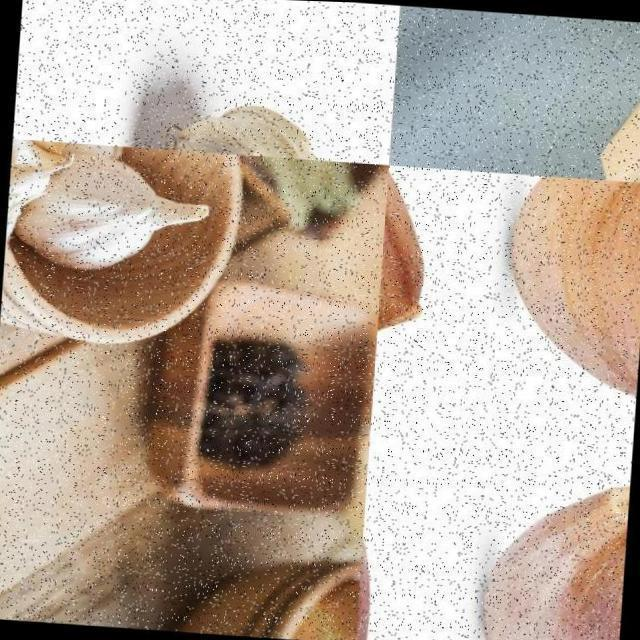garlic: (496, 174, 640, 404), (8, 148, 215, 280), (473, 466, 629, 640), (144, 90, 391, 164), (594, 83, 640, 183)
